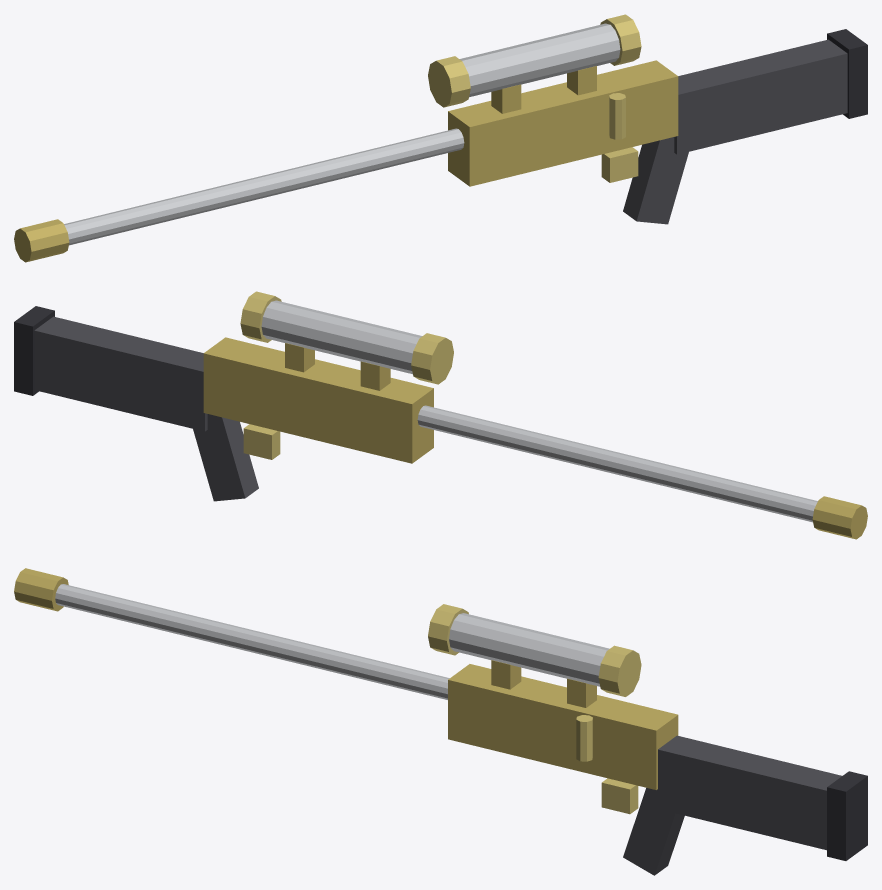
Rendered from gumus_nisanci.glb.
3 views of the same model, one above another, from view 1: azimuth 30°, elevation 25°; view 2: azimuth 150°, elevation 25°; view 3: azimuth 330°, elevation 25° (orthographic).
Visible parts, largest first — view 1: geometry_0; view 2: geometry_0; view 3: geometry_0.
Part boxes in pixels (x1,y1,x2,y2): geometry_0: (14,14,867,262); geometry_0: (14,291,867,539); geometry_0: (14,568,867,875).
Bounding box in the file's own units: 0.88 × 0.2118 × 0.06.
